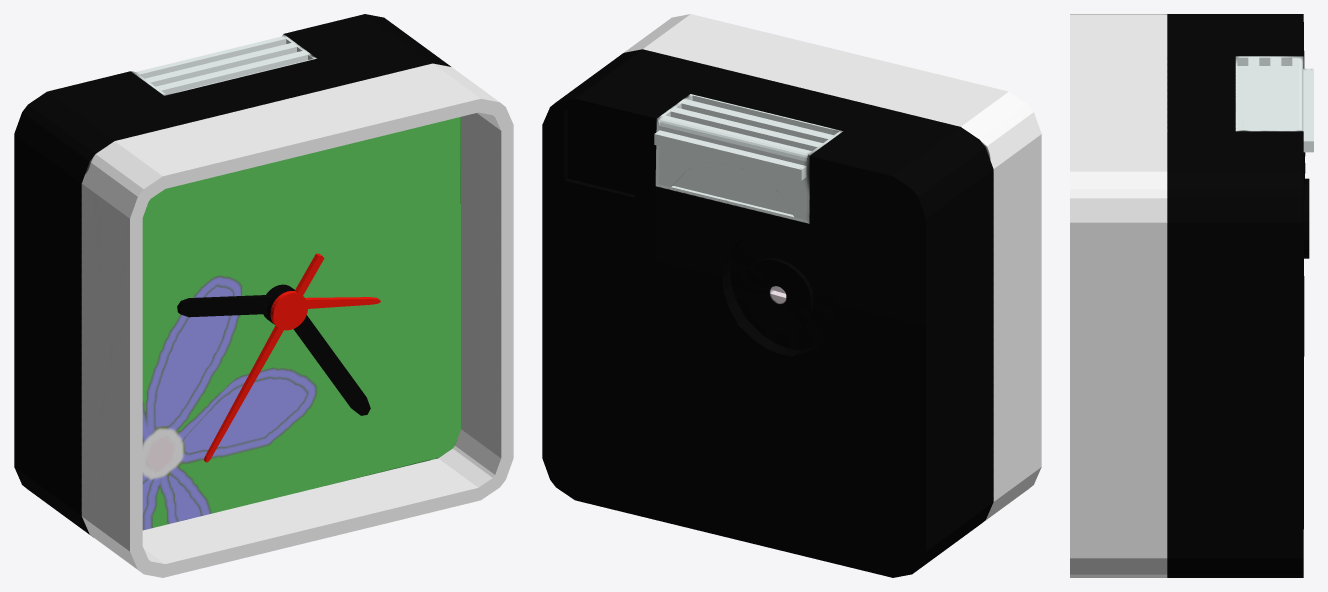
Rendered from Clock.fbx.
3 views of the same model, side by side, from view 1: azimuth 30°, elevation 25°; view 2: azimuth 150°, elevation 25°; view 3: azimuth 270°, elevation 25° (orthographic).
Visible parts, largest first — view 1: Clock; view 2: Clock; view 3: Clock.
Boxes of the visible parts, box(x1,y1,x2,y2) form: Clock: box(14, 14, 513, 577); Clock: box(542, 14, 1041, 577); Clock: box(1070, 14, 1313, 577).
Bounding box in the file's own units: 57.15 × 57.15 × 31.16.
Materials: 1 (1 with a texture image).
